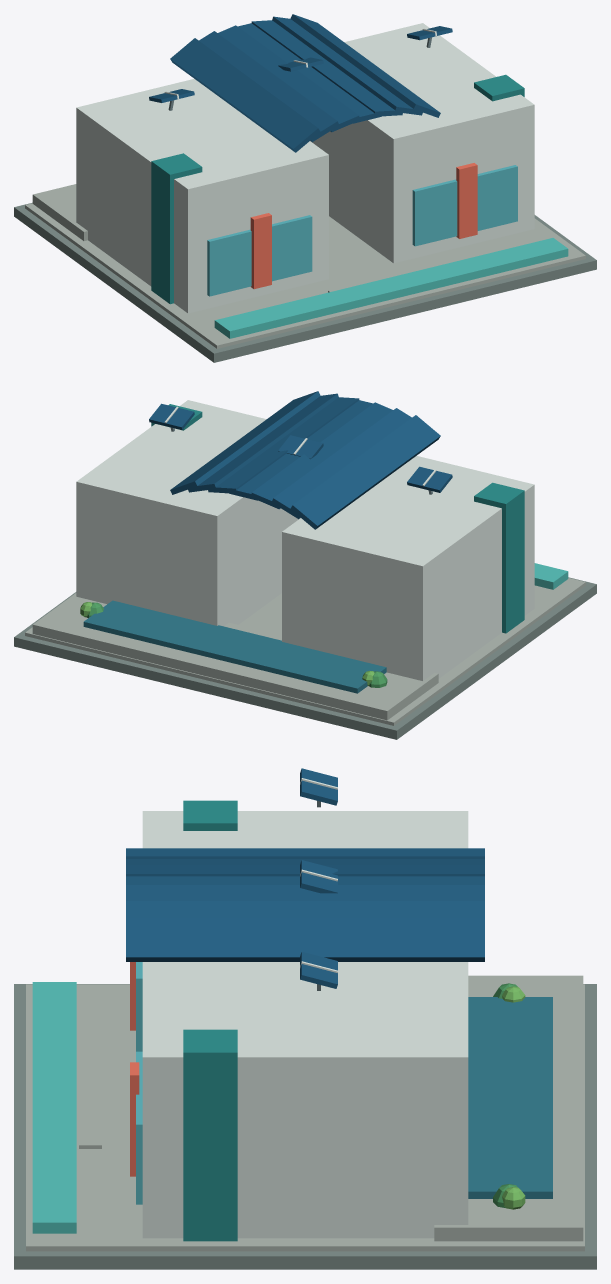
The model's file is metro_station_lv4.glb.
The picture shows the model from 3 angles, top to bottom: view 1: azimuth 30°, elevation 25°; view 2: azimuth 150°, elevation 25°; view 3: azimuth 270°, elevation 25°; orthographic projection. The views are drawn at different scales.
Visible parts, largest first — view 1: white, solar, concrete, glass, pavement, turquoise, teal, coral; view 2: white, solar, concrete, glassDark, pavement, teal, turquoise; view 3: white, solar, concrete, pavement, glassDark, teal, turquoise, glass, coral, foliage.
Boxes of the visible parts, x1,y1,x2,y2 form: white: (76,23,534,313); solar: (149,14,452,152); concrete: (25,184,585,348); glass: (207,165,517,296); pavement: (14,202,596,362); turquoise: (214,238,568,338); teal: (151,74,524,304); coral: (250,163,477,289); white: (76,400,534,680); solar: (149,391,452,529); concrete: (25,578,585,725); glassDark: (83,600,386,693); pavement: (14,577,596,739); teal: (151,404,524,633); turquoise: (534,563,568,589); white: (142,778,468,1238); solar: (126,768,484,988); concrete: (26,975,584,1251); pavement: (14,984,596,1269); glassDark: (468,997,552,1198); teal: (183,800,237,1241); turquoise: (32,982,76,1233); glass: (136,962,142,1204); coral: (130,962,139,1176); foliage: (502,986,525,1209).
Bounding box in the file's own units: 9.5 × 4.29 × 8.6.
